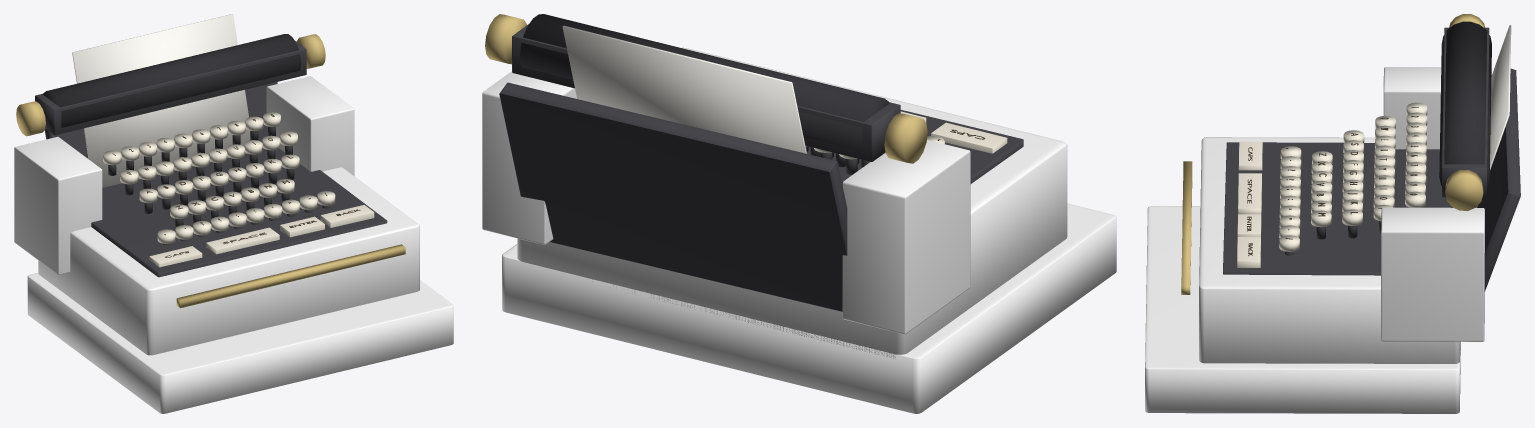
The model's file is typewriter.glb.
3 views of the same model, side by side, from view 1: azimuth 30°, elevation 25°; view 2: azimuth 150°, elevation 25°; view 3: azimuth 270°, elevation 25° (orthographic). The views are drawn at different scales.
Parts seen in each view (by area): view 1: Typewriter_Body, Keyboard_Base, Paper, Roller, Roller_support, Carriage, Key_Space, Key_Backspace, Key_CapsLock, Key_Enter; view 2: Typewriter_Body, Carriage, Paper, Roller, Roller_support, Keyboard_Base, Key_CapsLock; view 3: Typewriter_Body, Keyboard_Base, Roller, Carriage, Roller_support, Paper, Key_Space, Key_Backspace, Key_CapsLock, Key_Enter, Key_L, Key_M (+1 smaller).
Boxes of the visible parts, x1,y1,x2,y2 form: Typewriter_Body: (14,76,453,413); Keyboard_Base: (91,148,387,277); Paper: (72,14,250,187); Roller: (43,34,301,127); Roller_support: (16,34,325,136); Carriage: (44,82,277,179); Key_Space: (206,227,279,254); Key_Backspace: (320,205,374,227); Key_CapsLock: (149,246,202,267); Key_Enter: (280,216,324,237); Typewriter_Body: (482,47,1116,413); Carriage: (499,82,847,311); Paper: (562,25,806,153); Roller: (520,14,889,151); Roller_support: (485,14,927,163); Keyboard_Base: (807,110,1023,185); Key_CapsLock: (931,122,1007,153); Typewriter_Body: (1145,67,1484,413); Keyboard_Base: (1223,142,1452,275); Roller: (1439,21,1491,186); Carriage: (1477,68,1520,291); Roller_support: (1442,14,1489,210); Paper: (1475,25,1511,207); Key_Space: (1238,173,1261,214); Key_Backspace: (1237,237,1260,267); Key_CapsLock: (1238,141,1262,170); Key_Enter: (1237,214,1261,236); Key_L: (1342,209,1362,238); Key_M: (1311,210,1331,239).
Bounding box in the file's own units: 0.4358 × 0.3237 × 0.4179.
